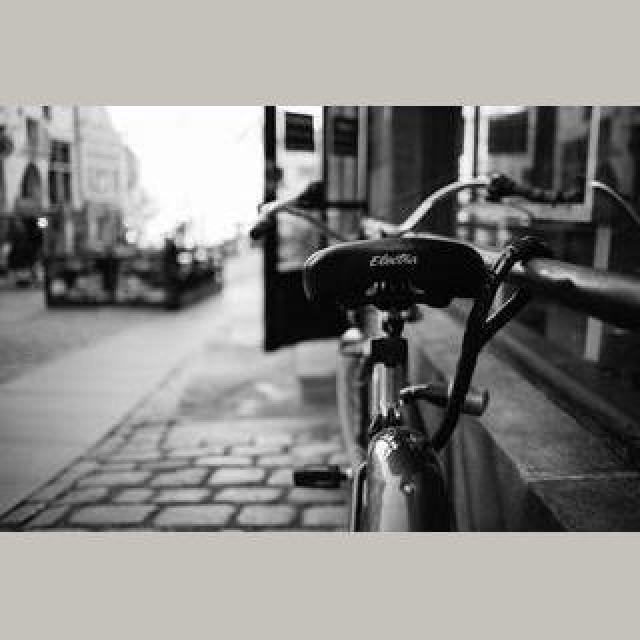Person: (302, 224, 574, 530)
